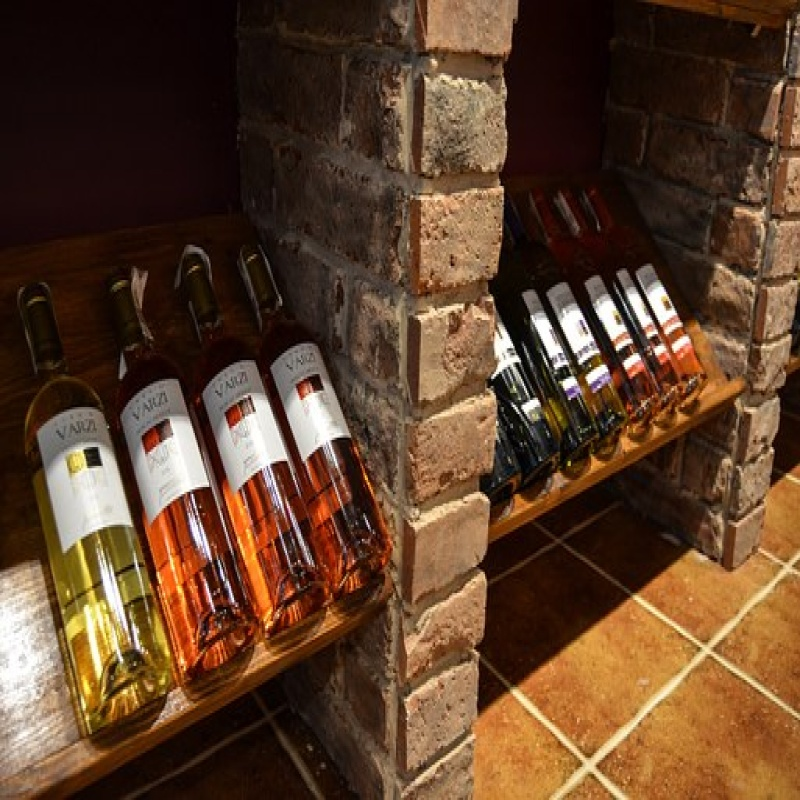wine: (239, 235, 398, 585), (17, 289, 137, 721), (186, 243, 319, 632)
